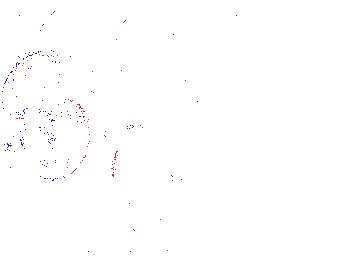moon jellyfish: (114, 1, 240, 74), (1, 50, 98, 121), (37, 9, 123, 88), (23, 93, 91, 182), (111, 124, 176, 209)
